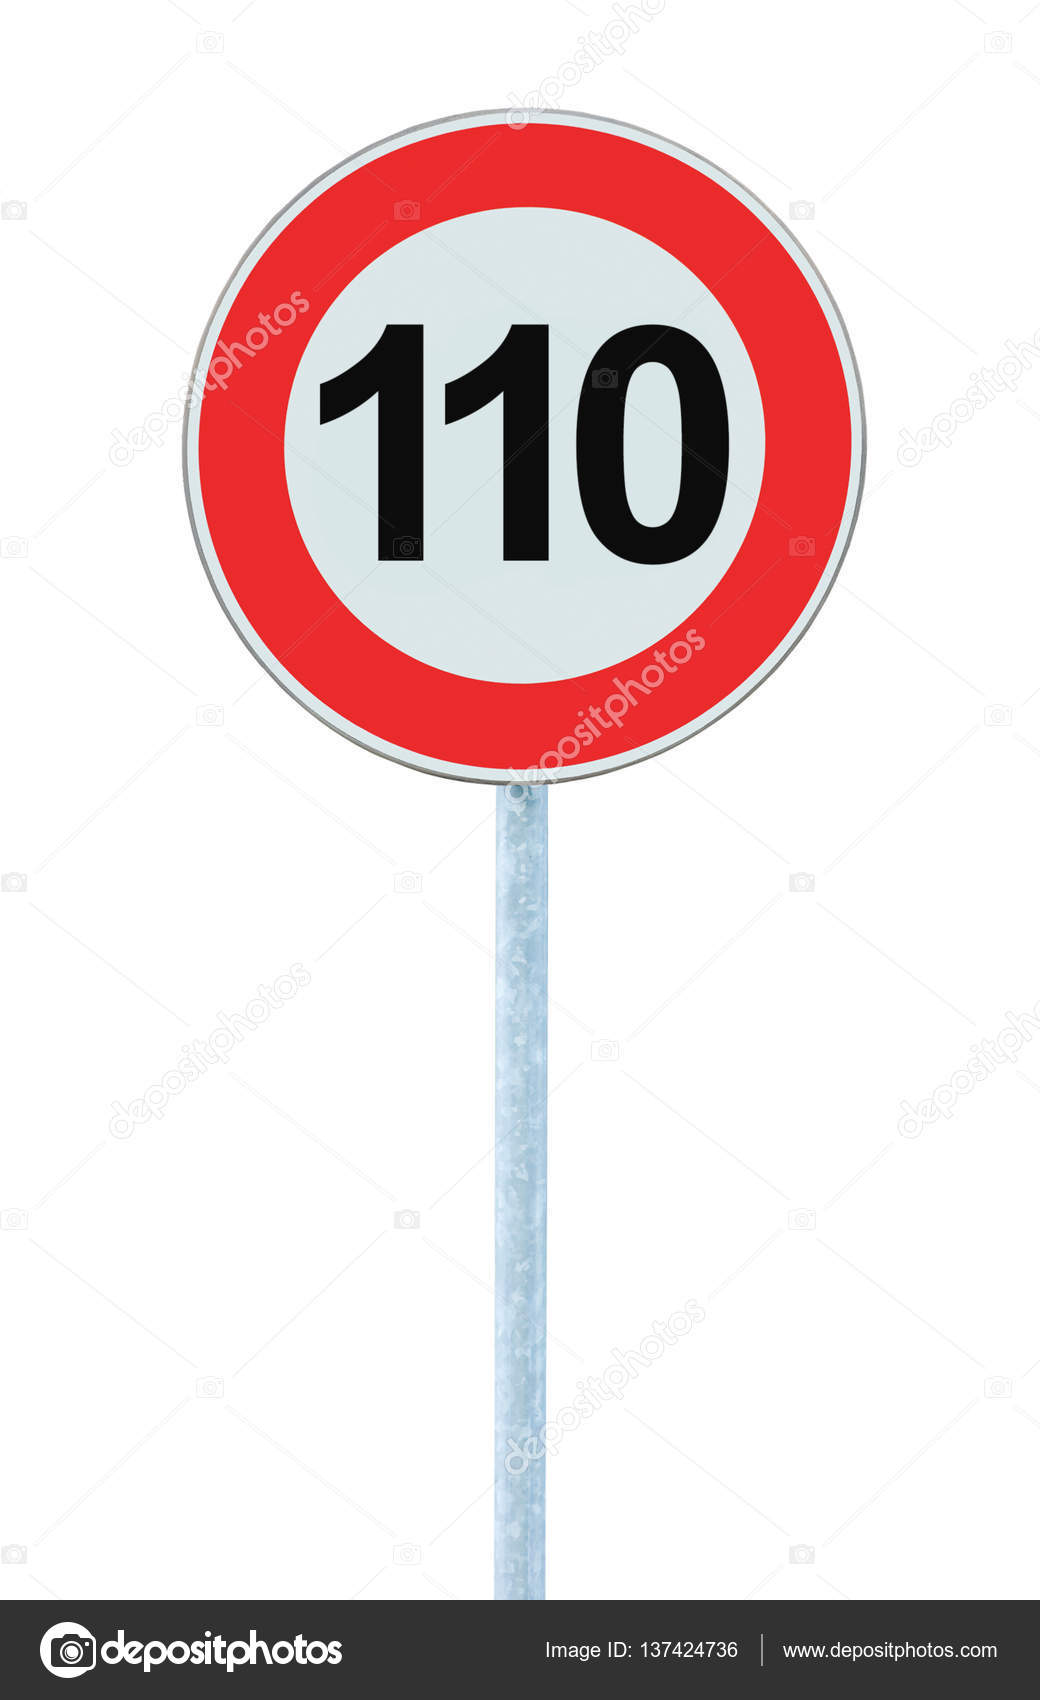Speed_limit_110km: (181, 104, 867, 790)
